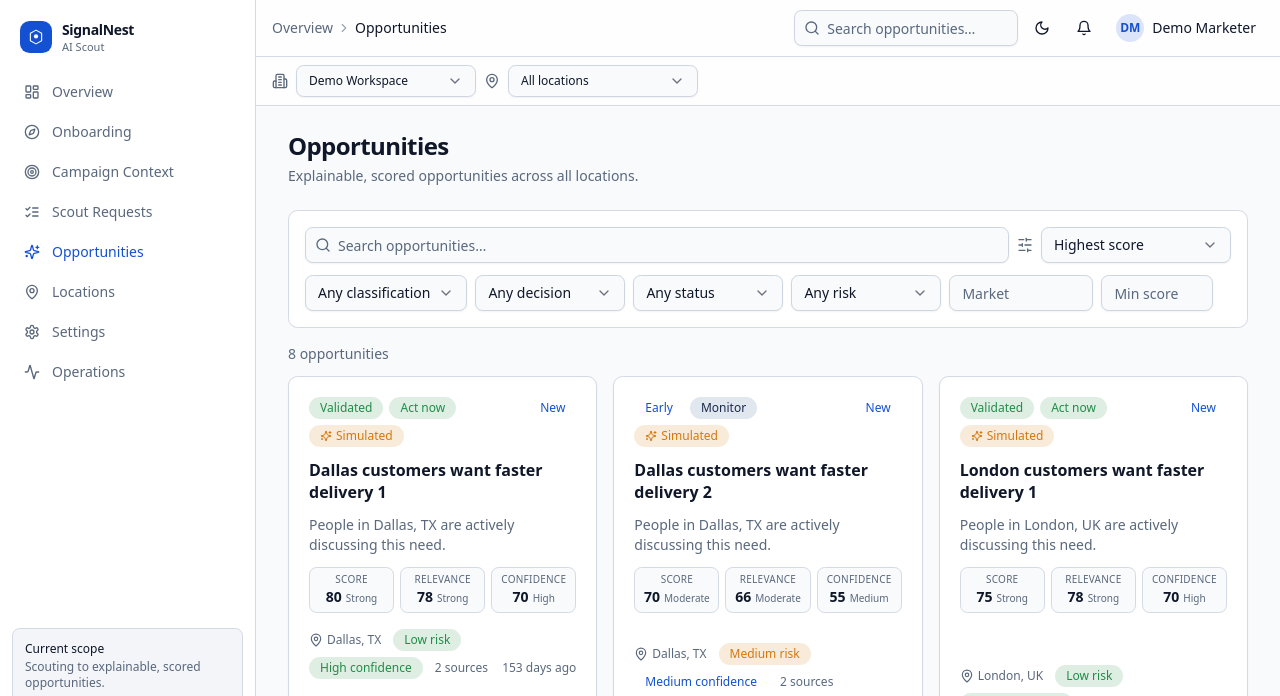
Test case: header global search while already on Opportunities (P6-UI-021) › applies a search submitted from the header without remounting the page
This screenshot has width=1280, height=696.
Check: the heading "Dallas customers want faster delivery 1" is shown, box [309,459,576,503]
Type "London" into the 1st search field labelled "Search opportunities…".
click(906, 28); type("London")  # box [794,10,1018,46]
Then press Enter
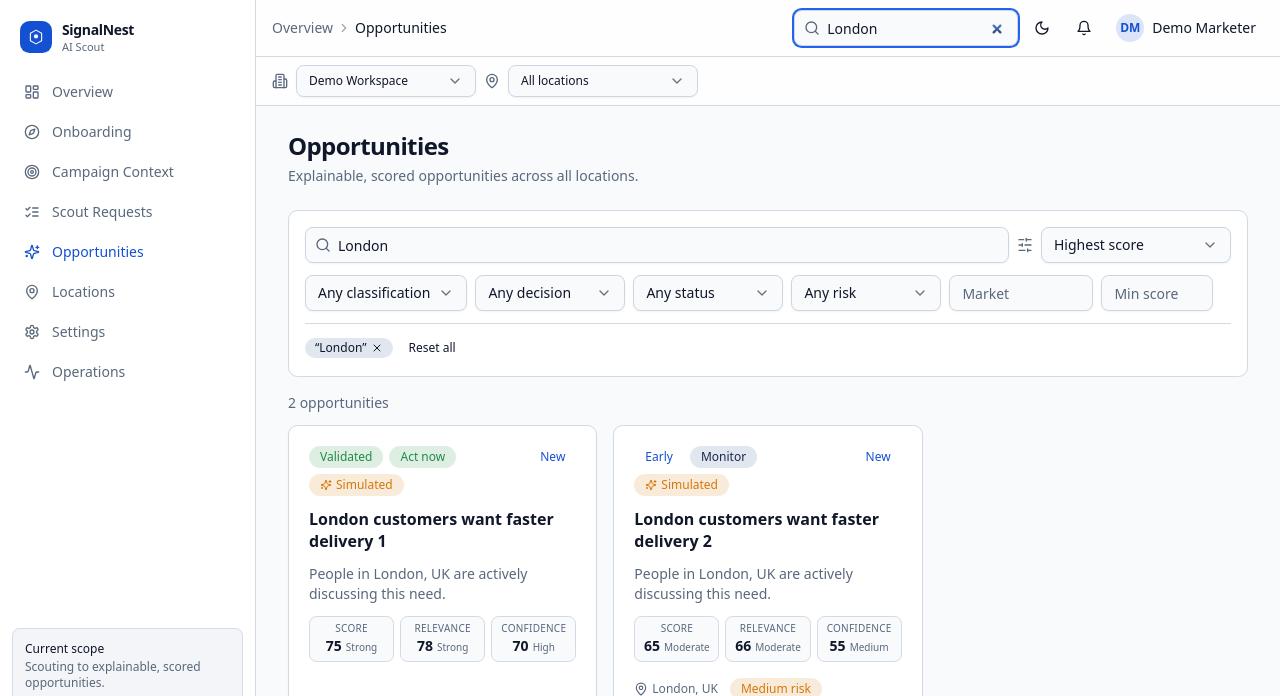
Check: the heading "London customers want faster delivery 1" is shown, box [309,508,576,552]
Check: the 2nd search field named "Search opportunities" holds "London", box [305,227,1009,263]
Check: the link "Dallas customers want faster delivery 1" is gone
